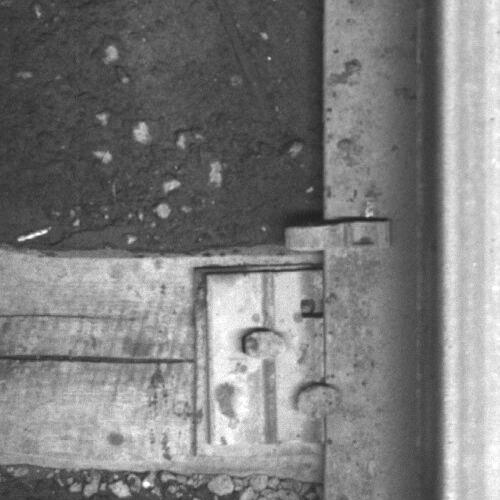crutch: (283, 217, 393, 252)
do: (208, 268, 345, 446)
hole_do: (292, 289, 338, 330)
rail: (439, 1, 500, 500)
tie_wood: (1, 254, 327, 472)
wood_crack: (1, 347, 198, 370)
